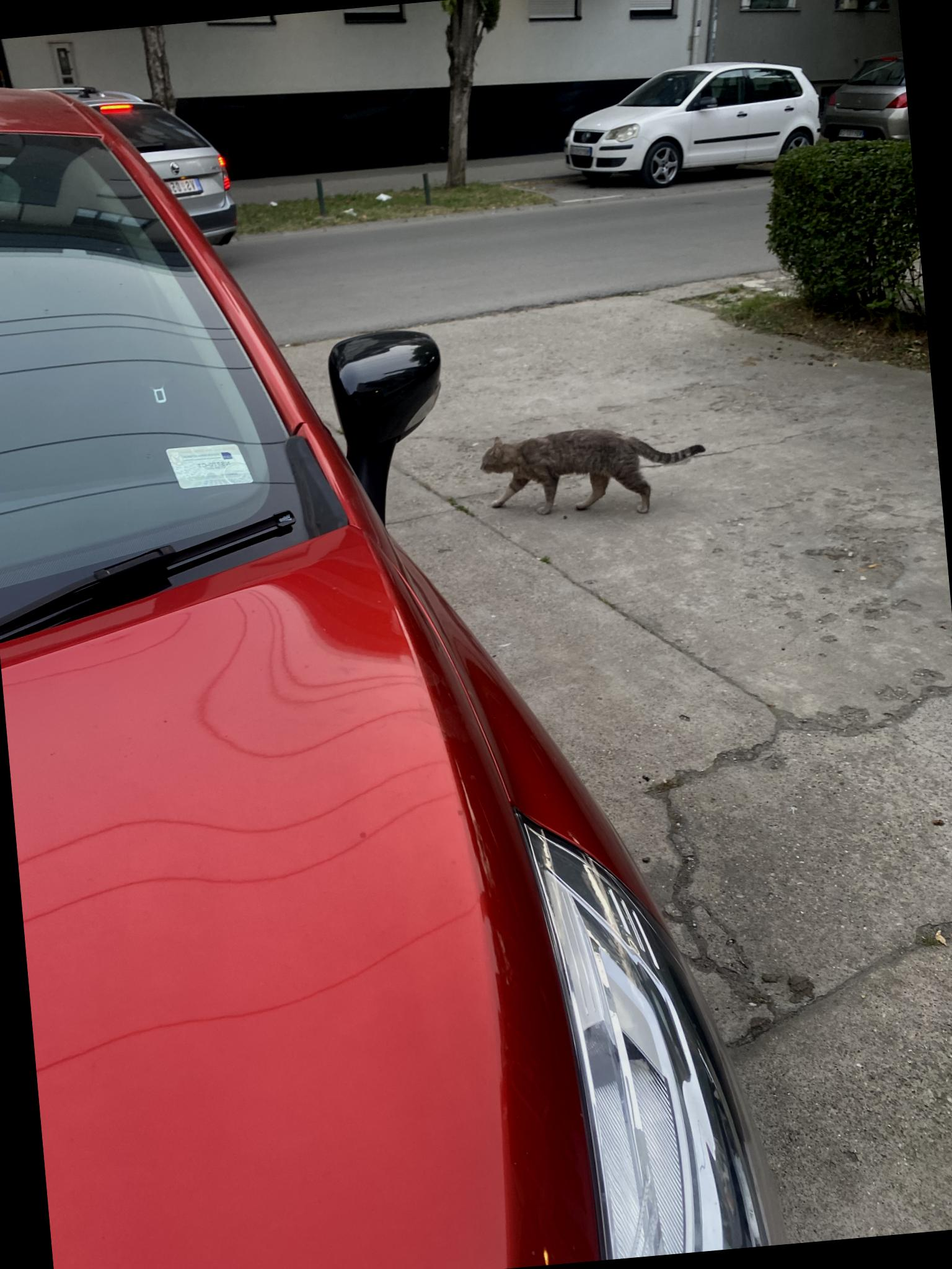macka: (477, 418, 711, 527)
